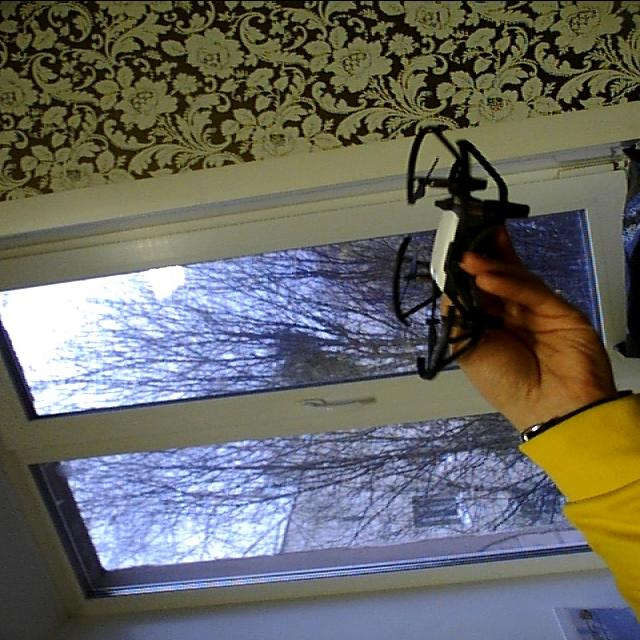drone: (373, 119, 544, 378)
